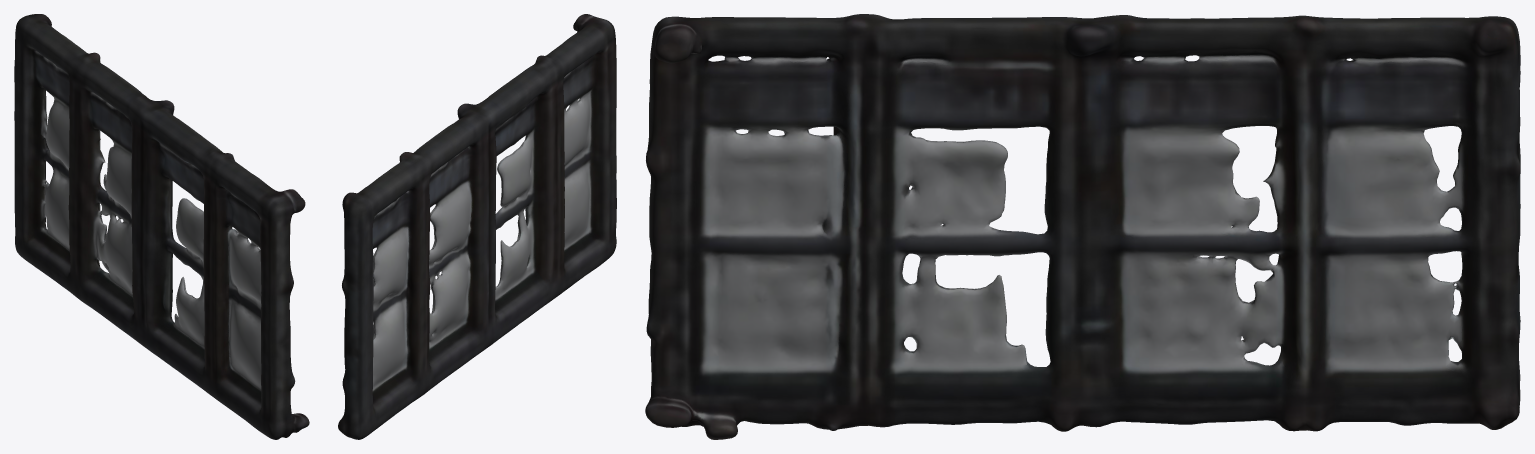
The model's file is Window.glb.
The picture shows the model from 3 angles, left to right: view 1: azimuth 30°, elevation 25°; view 2: azimuth 150°, elevation 25°; view 3: azimuth 270°, elevation 25°; orthographic projection. The views are drawn at different scales.
Parts seen in each view (by area): view 1: world; view 2: world; view 3: world.
Part boxes in pixels (x1=…): world: x1=14, y1=14, x2=309, y2=439; world: x1=338, y1=14, x2=616, y2=439; world: x1=645, y1=14, x2=1520, y2=439.
Bounding box in the file's own units: 0.0481 × 0.2832 × 0.5446.
1 material, 1 textured.
